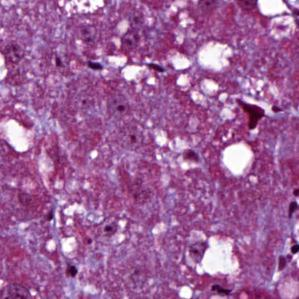inflammation: (236, 96, 267, 133)
